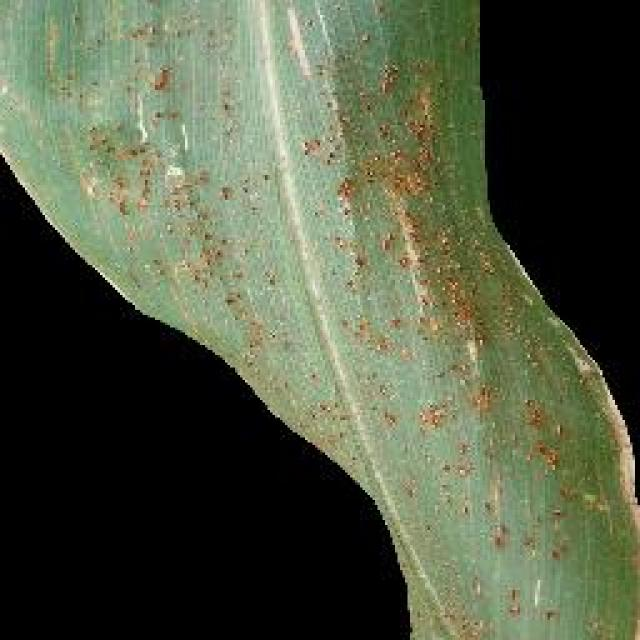Corn Common Rust: (91, 23, 582, 455)
